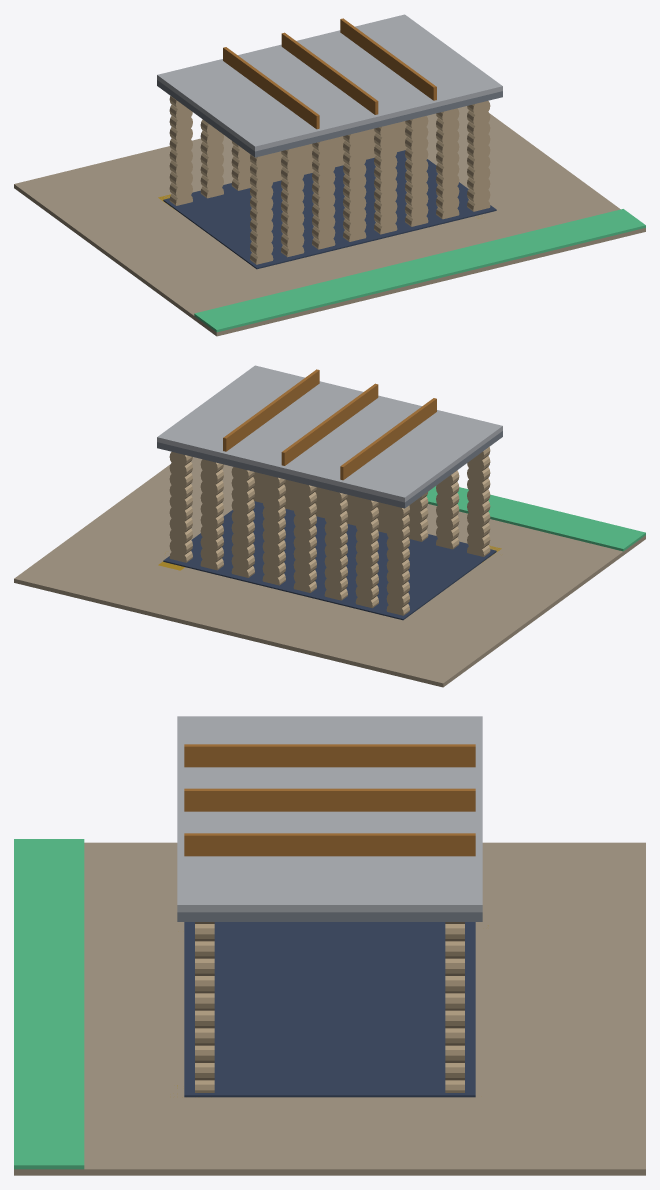
The model's file is stage_11_finishing.glb.
3 views of the same model, one above another, from view 1: azimuth 30°, elevation 25°; view 2: azimuth 150°, elevation 25°; view 3: azimuth 270°, elevation 25° (orthographic). The views are drawn at different scales.
Parts seen in each view (by area): view 1: world; view 2: world; view 3: world.
Part boxes in pixels (<box>): world: <box>14,14,645,336</box>; world: <box>14,365,645,687</box>; world: <box>14,716,645,1175</box>.
Bounding box in the file's own units: 11 × 4.2 × 9.
